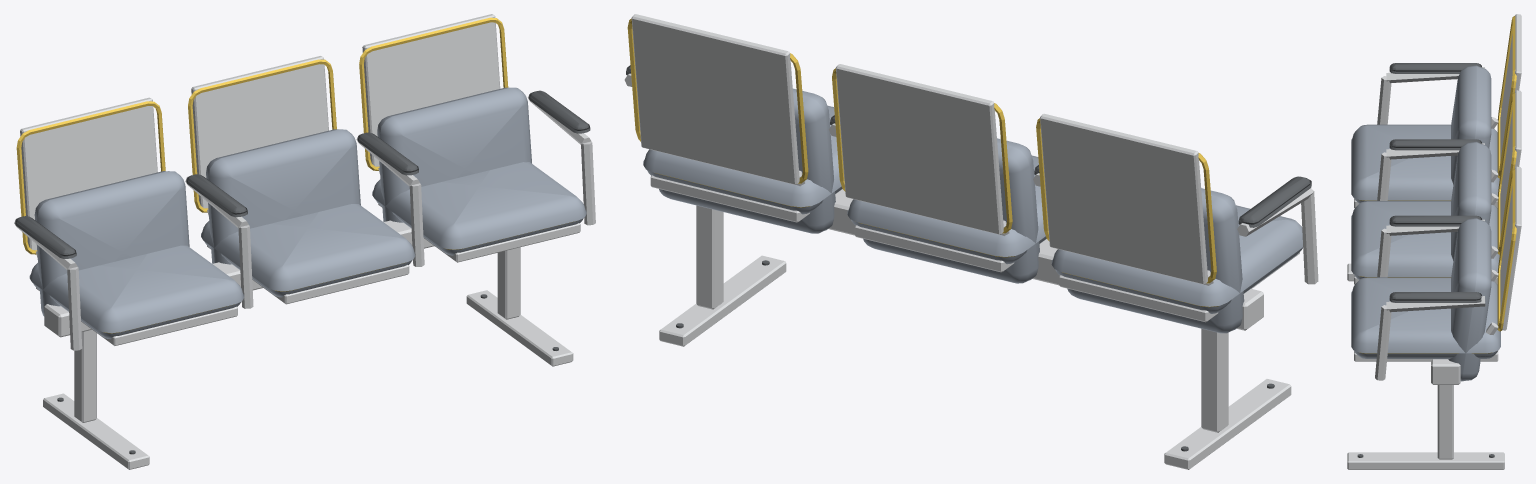
File: laundrette-and-cleaning-waiting-chair-run-3-28607b1c__25544.glb
3 renders of one model, left to right at view 1: azimuth 30°, elevation 25°; view 2: azimuth 150°, elevation 25°; view 3: azimuth 270°, elevation 25°, orthographic. The views are drawn at different scales.
Visible parts, largest first — view 1: waiting-chair-run-3; view 2: waiting-chair-run-3; view 3: waiting-chair-run-3.
Part boxes in pixels (x1,y1,x2,y2): waiting-chair-run-3: (14,14,595,469); waiting-chair-run-3: (624,14,1318,469); waiting-chair-run-3: (1347,14,1521,469).
Size of the model in its own units: 1.7 by 0.8478 by 0.531.
